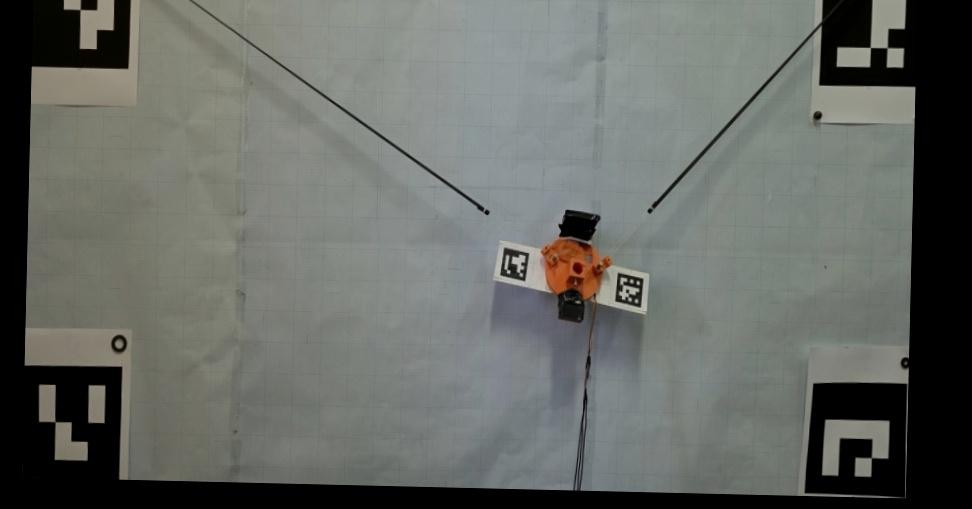robot: (541, 209, 613, 324)
